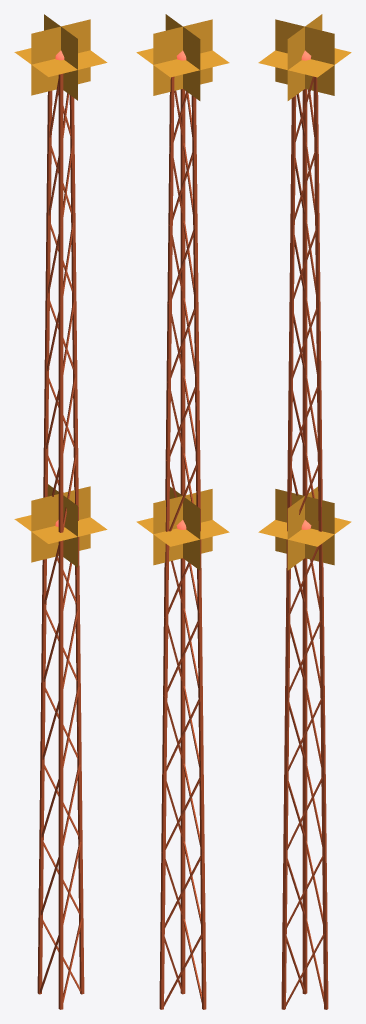
File: dune_radio_mast.glb
The picture shows the model from 3 angles, left to right: view 1: azimuth 30°, elevation 25°; view 2: azimuth 210°, elevation 25°; view 3: azimuth 330°, elevation 25°; orthographic projection.
Parts seen in each view (by area): view 1: RadioMast; view 2: RadioMast; view 3: RadioMast.
Part boxes in pixels (left/top/right/bottom): RadioMast: left=14, top=14, right=107, bottom=1009; RadioMast: left=136, top=14, right=229, bottom=1009; RadioMast: left=258, top=14, right=351, bottom=1009.
Bounding box in the file's own units: 2.52 × 39.58 × 2.52.
